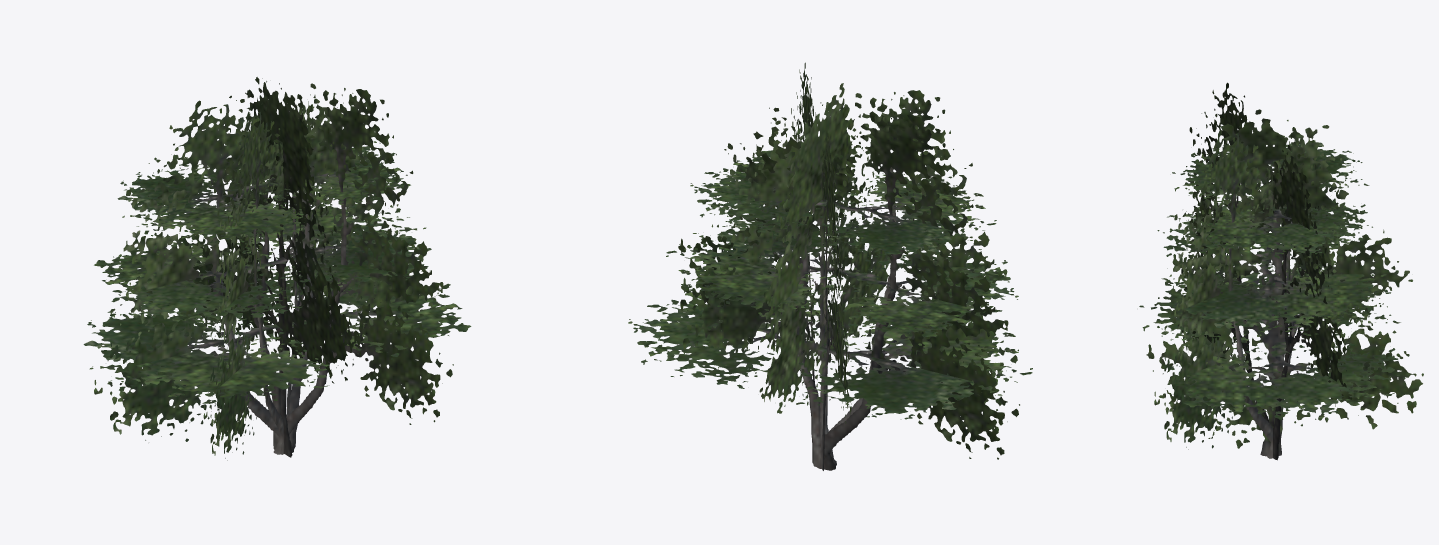
3 renders of one model, left to right at view 1: azimuth 30°, elevation 25°; view 2: azimuth 150°, elevation 25°; view 3: azimuth 270°, elevation 25°, orthographic. The views are drawn at different scales.
Parts seen in each view (by area): view 1: EE_1111 group8, group8 EE_4447, group8 EE_DDDD, group8 EE_3333, group8 EE_DDDD1, group8 EE_4446, group8 EE_DDDD2; view 2: group8 EE_2222, group8 EE_3333, group8 EE_4445, group8 EE_DDDD, group8 EE_DDDD1, group8 EE_DDDD2, group8 EE_4448; view 3: group8 EE_4444, group8 EE_4448, group8 EE_DDDD, group8 EE_DDDD1, group8 EE_4446, group8 EE_DDDD2.
Part boxes in pixels (x1,y1,x2,y2): EE_1111 group8: (94,95,438,454); group8 EE_4447: (160,83,453,453); group8 EE_DDDD: (83,261,471,403); group8 EE_3333: (223,77,360,457); group8 EE_DDDD1: (94,197,431,328); group8 EE_4446: (203,94,339,460); group8 EE_DDDD2: (117,140,410,243); group8 EE_2222: (678,102,1019,470); group8 EE_3333: (759,83,902,467); group8 EE_4445: (681,90,1018,468); group8 EE_DDDD: (628,289,1032,419); group8 EE_DDDD1: (666,218,1018,337); group8 EE_DDDD2: (690,150,996,258); group8 EE_4448: (788,62,851,470); group8 EE_4444: (1146,109,1423,456); group8 EE_4448: (1154,125,1368,458); group8 EE_DDDD: (1139,259,1405,419); group8 EE_DDDD1: (1157,195,1389,335); group8 EE_4446: (1173,82,1352,460); group8 EE_DDDD2: (1172,135,1372,258).
Bounding box in the file's own units: 13.12 × 12.65 × 9.79.
1 material, 1 textured.
